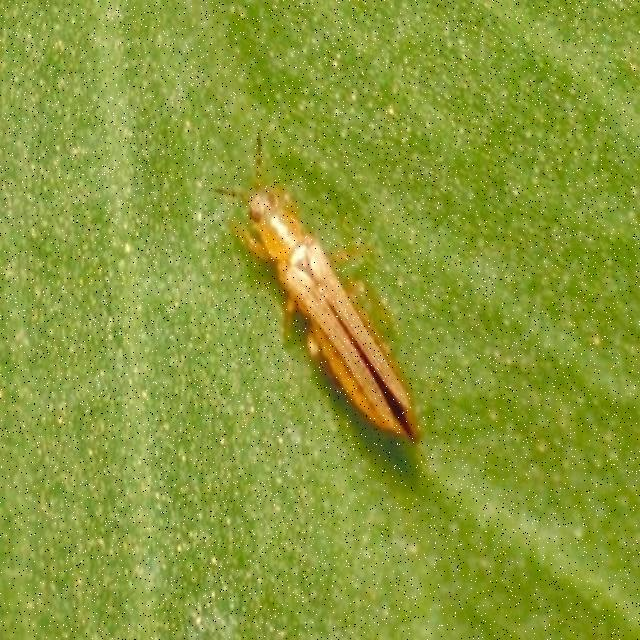Thrips: (232, 128, 443, 460)
